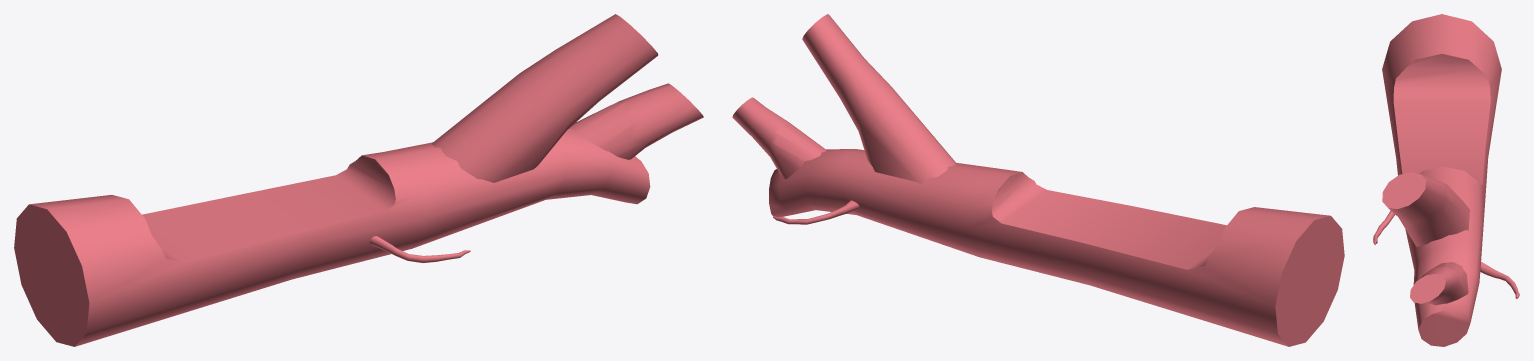
File: GeoTreeBench01.fbx
3 renders of one model, left to right at view 1: azimuth 30°, elevation 25°; view 2: azimuth 150°, elevation 25°; view 3: azimuth 270°, elevation 25°, orthographic. The views are drawn at different scales.
Visible parts, largest first — view 1: GeoTreeBench01_LOD0; view 2: GeoTreeBench01_LOD0; view 3: GeoTreeBench01_LOD0.
Boxes of the visible parts, x1,y1,x2,y2 form: GeoTreeBench01_LOD0: (14,14,703,346); GeoTreeBench01_LOD0: (732,14,1344,346); GeoTreeBench01_LOD0: (1373,14,1519,346).
Size of what is drawn, in the model's own units: 254 by 78.63 by 63.44.
